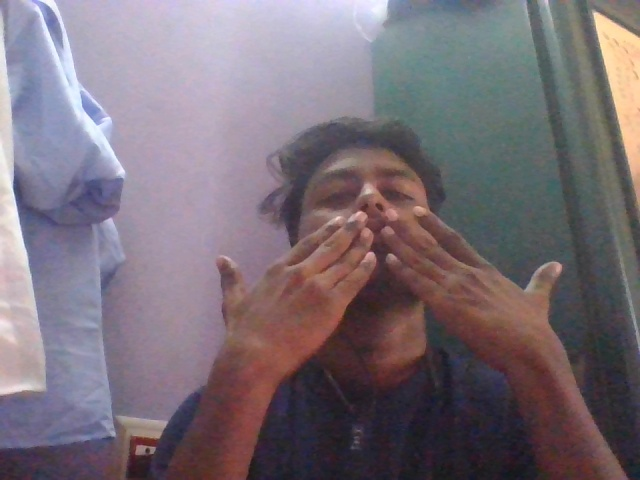thankyou: (205, 190, 586, 396)
